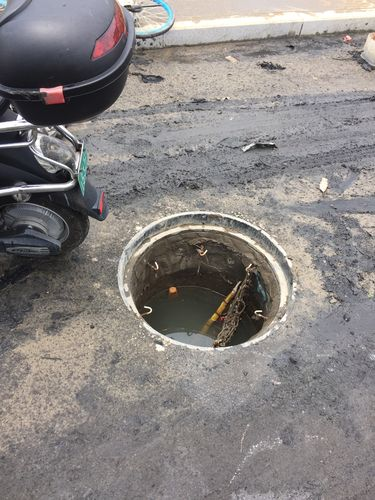lose: (115, 206, 309, 352)
